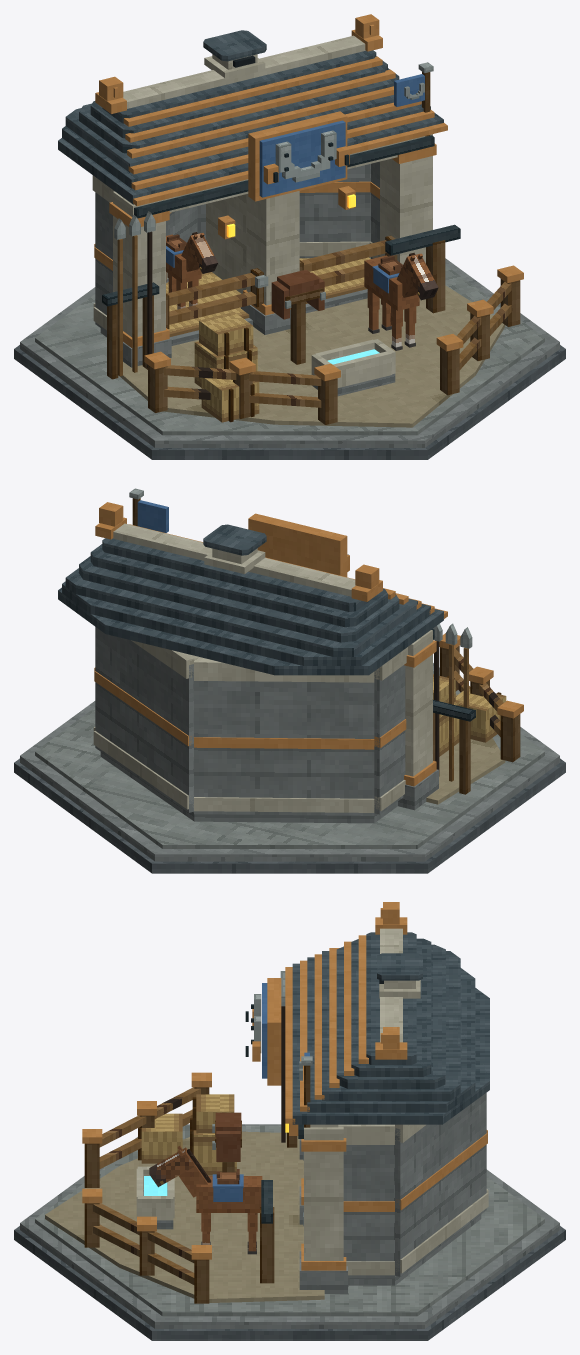
File: dwarf_war_stable_hex_v1.glb
The picture shows the model from 3 angles, top to bottom: view 1: azimuth 30°, elevation 25°; view 2: azimuth 150°, elevation 25°; view 3: azimuth 270°, elevation 25°; orthographic projection.
Visible parts, largest first — view 1: Dwarf_War_Stable_Hex_V1_Stable, Dwarf_War_Stable_Hex_V1_Roofs, Dwarf_War_Stable_Hex_V1_Foundation, Dwarf_War_Stable_Hex_V1_Courtyard, Dwarf_War_Stable_Hex_V1_Equipment, Dwarf_War_Stable_Hex_V1_Details, Dwarf_War_Stable_Hex_V1_Mounts, Dwarf_War_Stable_Hex_V1_Faction; view 2: Dwarf_War_Stable_Hex_V1_Stable, Dwarf_War_Stable_Hex_V1_Roofs, Dwarf_War_Stable_Hex_V1_Foundation, Dwarf_War_Stable_Hex_V1_Equipment, Dwarf_War_Stable_Hex_V1_Courtyard, Dwarf_War_Stable_Hex_V1_Faction; view 3: Dwarf_War_Stable_Hex_V1_Roofs, Dwarf_War_Stable_Hex_V1_Foundation, Dwarf_War_Stable_Hex_V1_Stable, Dwarf_War_Stable_Hex_V1_Courtyard, Dwarf_War_Stable_Hex_V1_Equipment, Dwarf_War_Stable_Hex_V1_Mounts, Dwarf_War_Stable_Hex_V1_Details, Dwarf_War_Stable_Hex_V1_Faction.
Part boxes in pixels (bbox=[...]): Dwarf_War_Stable_Hex_V1_Stable: bbox=[92, 54, 436, 367]; Dwarf_War_Stable_Hex_V1_Roofs: bbox=[58, 14, 447, 206]; Dwarf_War_Stable_Hex_V1_Foundation: bbox=[14, 258, 565, 459]; Dwarf_War_Stable_Hex_V1_Courtyard: bbox=[120, 265, 523, 427]; Dwarf_War_Stable_Hex_V1_Equipment: bbox=[102, 211, 460, 422]; Dwarf_War_Stable_Hex_V1_Details: bbox=[218, 62, 433, 396]; Dwarf_War_Stable_Hex_V1_Mounts: bbox=[166, 232, 438, 350]; Dwarf_War_Stable_Hex_V1_Faction: bbox=[166, 74, 424, 293]; Dwarf_War_Stable_Hex_V1_Stable: bbox=[93, 513, 438, 823]; Dwarf_War_Stable_Hex_V1_Roofs: bbox=[58, 502, 447, 675]; Dwarf_War_Stable_Hex_V1_Foundation: bbox=[14, 663, 565, 873]; Dwarf_War_Stable_Hex_V1_Equipment: bbox=[433, 623, 506, 794]; Dwarf_War_Stable_Hex_V1_Courtyard: bbox=[426, 633, 523, 804]; Dwarf_War_Stable_Hex_V1_Faction: bbox=[137, 500, 168, 532]; Dwarf_War_Stable_Hex_V1_Roofs: bbox=[285, 902, 489, 1124]; Dwarf_War_Stable_Hex_V1_Foundation: bbox=[14, 1124, 565, 1340]; Dwarf_War_Stable_Hex_V1_Stable: bbox=[267, 978, 488, 1293]; Dwarf_War_Stable_Hex_V1_Courtyard: bbox=[45, 1072, 324, 1303]; Dwarf_War_Stable_Hex_V1_Equipment: bbox=[138, 971, 297, 1283]; Dwarf_War_Stable_Hex_V1_Mounts: bbox=[149, 1146, 262, 1254]; Dwarf_War_Stable_Hex_V1_Details: bbox=[136, 994, 312, 1229]; Dwarf_War_Stable_Hex_V1_Faction: bbox=[212, 983, 309, 1201].
Size of the model in its own units: 1.59 by 1.01 by 1.84.
Materials: 1 (1 with a texture image).
